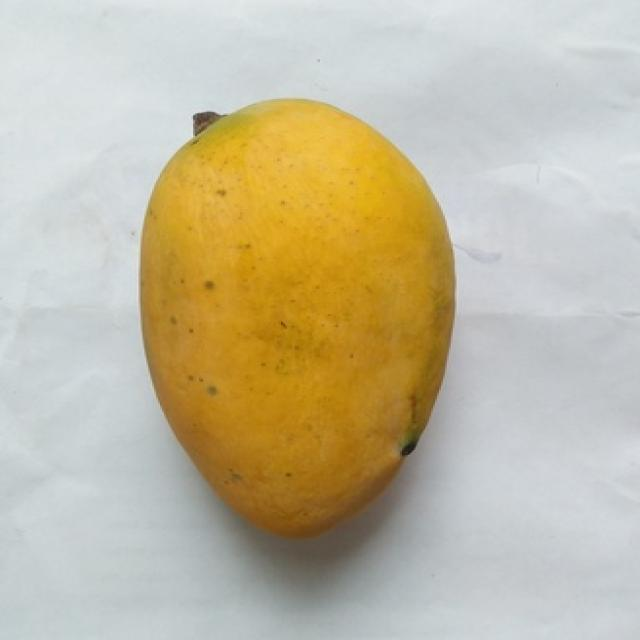Mango: (142, 99, 453, 535)
